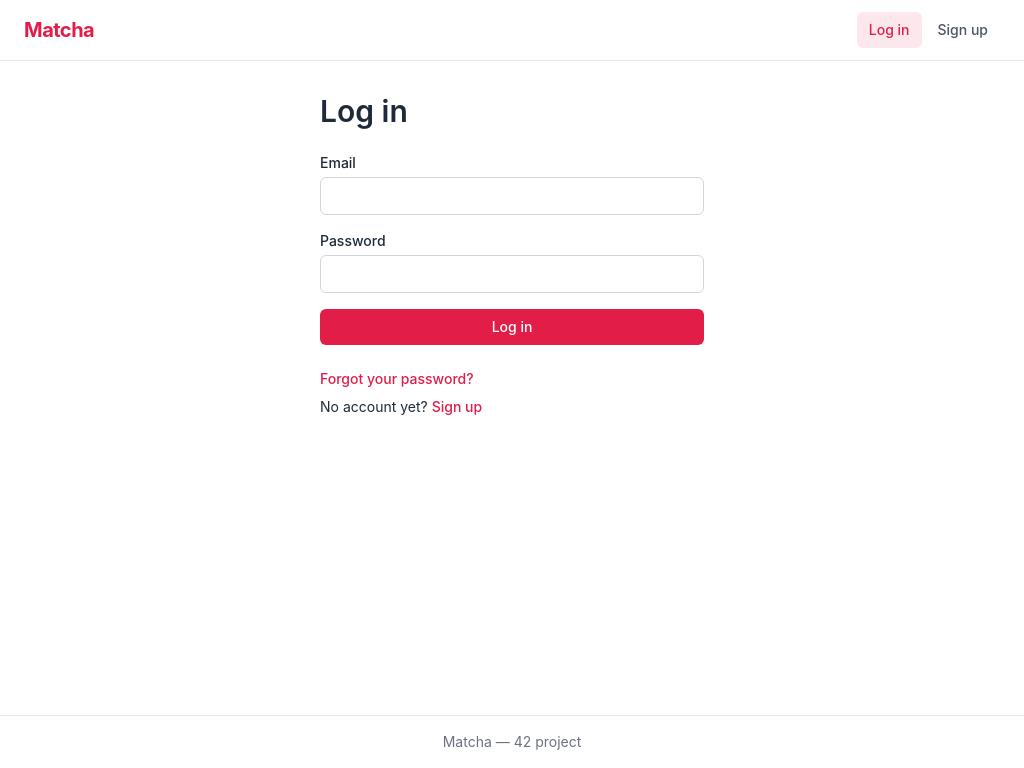
Test case: navigation › login page links to register
Click the link "Sign up" next to "No account yet?": [457, 406] box [432,398,482,415]
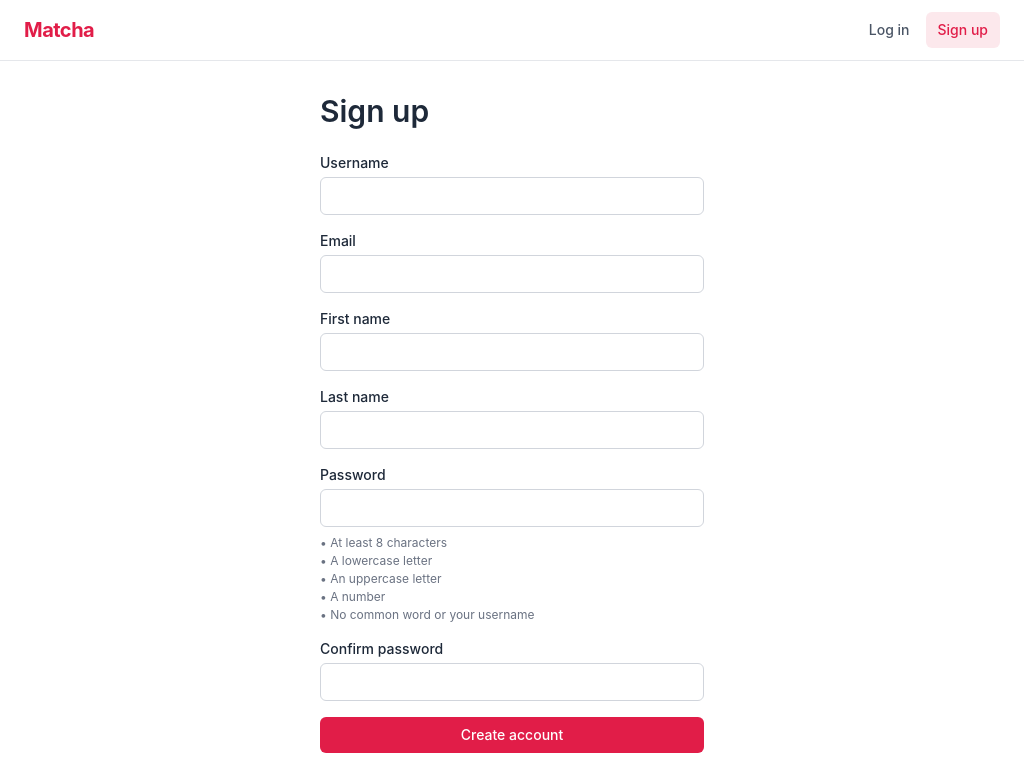
Result: the heading "Sign up" is shown at [320,93,429,129]
